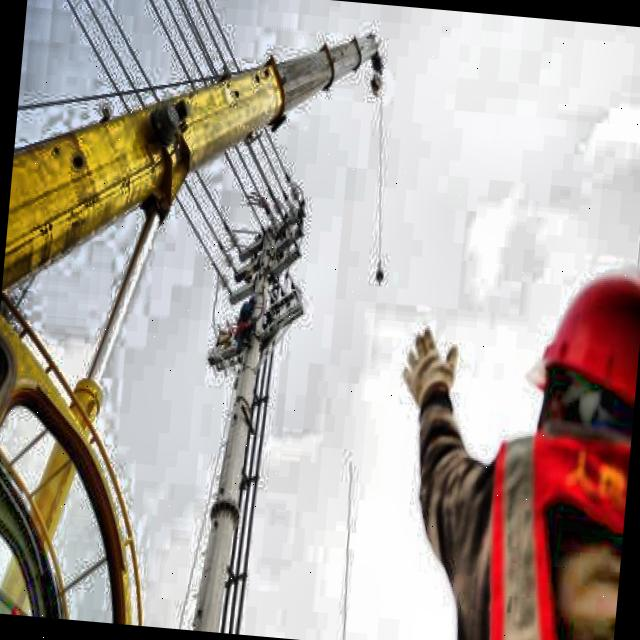helmet: (521, 246, 640, 492)
